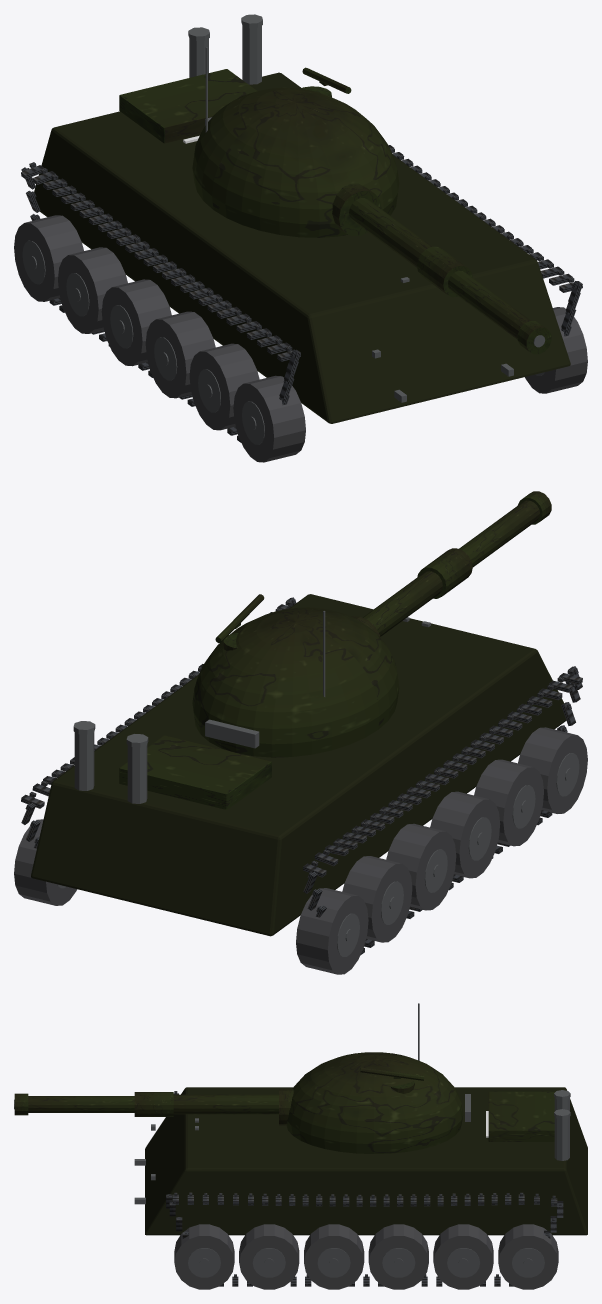
Rendered from bulwark_LOD0.glb.
3 views of the same model, one above another, from view 1: azimuth 30°, elevation 25°; view 2: azimuth 150°, elevation 25°; view 3: azimuth 270°, elevation 25° (orthographic). The views are drawn at different scales.
Parts seen in each view (by area): view 1: HullMesh, Wheels_L, TurretMesh, TrackL, Gun_tube2, TrackR, Gun_tube1, Wheels_R, Gun_ext, exh1, exh-1, Gun_brk; view 2: HullMesh, TurretMesh, Wheels_L, TrackL, Gun_tube1, Gun_tube2, Wheels_R, TrackR, Gun_ext, exh-1, exh1; view 3: HullMesh, Wheels_R, TurretMesh, TrackR, Gun_tube1, Gun_tube2, Gun_ext, exh1.
Part boxes in pixels (left/top/right/bottom): HullMesh: left=34, top=69, right=570, bottom=423; Wheels_L: left=14, top=215, right=305, bottom=462; TurretMesh: left=192, top=47, right=399, bottom=237; TrackL: left=21, top=162, right=300, bottom=442; Gun_tube2: left=448, top=271, right=549, bottom=351; TrackR: left=389, top=145, right=582, bottom=336; Gun_tube1: left=349, top=198, right=431, bottom=267; Wheels_R: left=525, top=307, right=587, bottom=393; Gun_ext: left=417, top=246, right=472, bottom=297; exh1: left=242, top=25, right=261, bottom=84; exh-1: left=189, top=38, right=208, bottom=77; Gun_brk: left=517, top=321, right=551, bottom=354; HullMesh: left=31, top=594, right=566, bottom=936; TurretMesh: left=192, top=594, right=399, bottom=757; Wheels_L: left=296, top=727, right=587, bottom=974; TrackL: left=303, top=666, right=582, bottom=955; Gun_tube1: left=363, top=571, right=442, bottom=636; Gun_tube2: left=459, top=500, right=539, bottom=567; Wheels_R: left=14, top=819, right=76, bottom=905; TrackR: left=21, top=597, right=296, bottom=848; Gun_ext: left=417, top=548, right=472, bottom=598; exh-1: left=127, top=745, right=147, bottom=803; exh1: left=74, top=732, right=94, bottom=790; HullMesh: left=134, top=1087, right=587, bottom=1235; Wheels_R: left=174, top=1224, right=558, bottom=1289; TurretMesh: left=279, top=1003, right=470, bottom=1153; TrackR: left=166, top=1192, right=563, bottom=1286; Gun_tube1: left=173, top=1094, right=278, bottom=1114; Gun_tube2: left=28, top=1096, right=134, bottom=1112; Gun_ext: left=134, top=1092, right=173, bottom=1116; exh1: left=554, top=1117, right=569, bottom=1160.
Bounding box in the file's own units: 3.59 × 3.05 × 7.62.
Materials: 5 (3 with a texture image).
